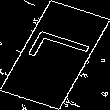L_SE: (17, 31, 93, 79)
